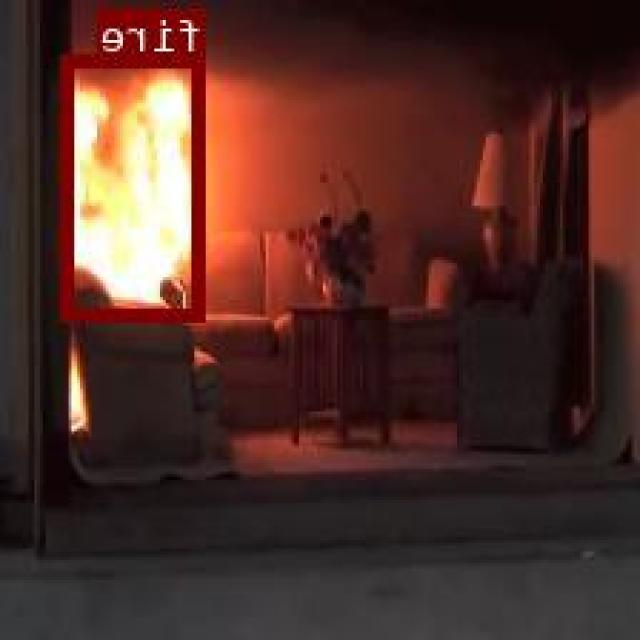fire: (63, 52, 208, 317)
